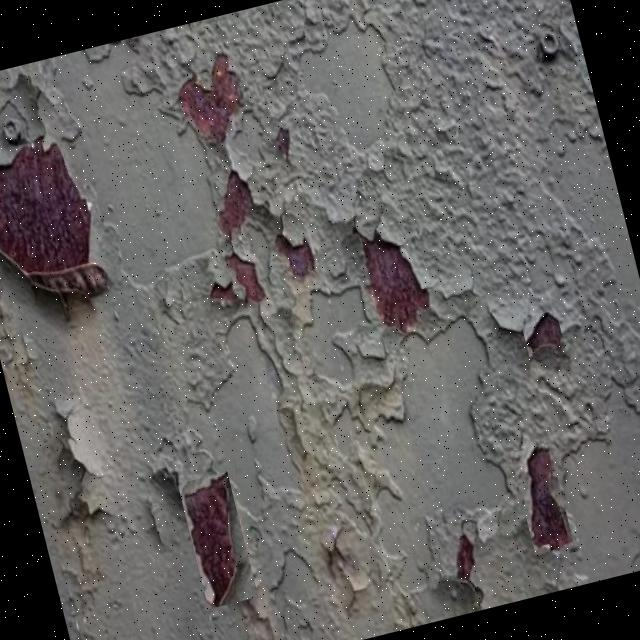Corrosion: (0, 0, 640, 640), (0, 128, 114, 319), (174, 468, 258, 608), (354, 221, 436, 339), (168, 49, 252, 152), (508, 441, 575, 555), (518, 308, 566, 362)
